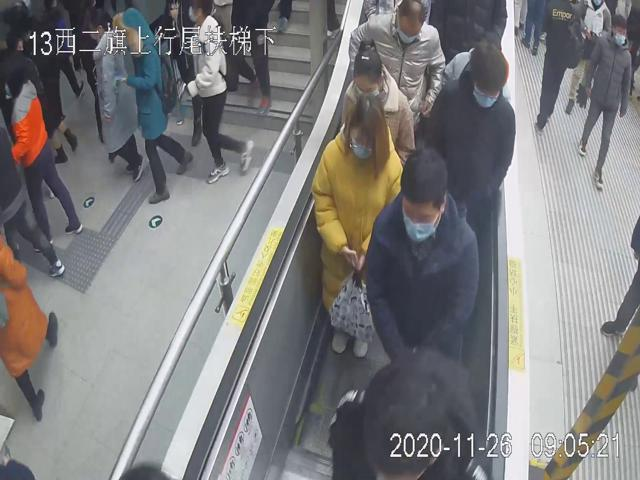person: (362, 149, 482, 365), (311, 91, 403, 359), (427, 45, 516, 216), (3, 69, 86, 246), (178, 0, 256, 185), (121, 8, 191, 208), (343, 0, 447, 126), (336, 34, 416, 167), (577, 5, 633, 193), (87, 11, 145, 184)
